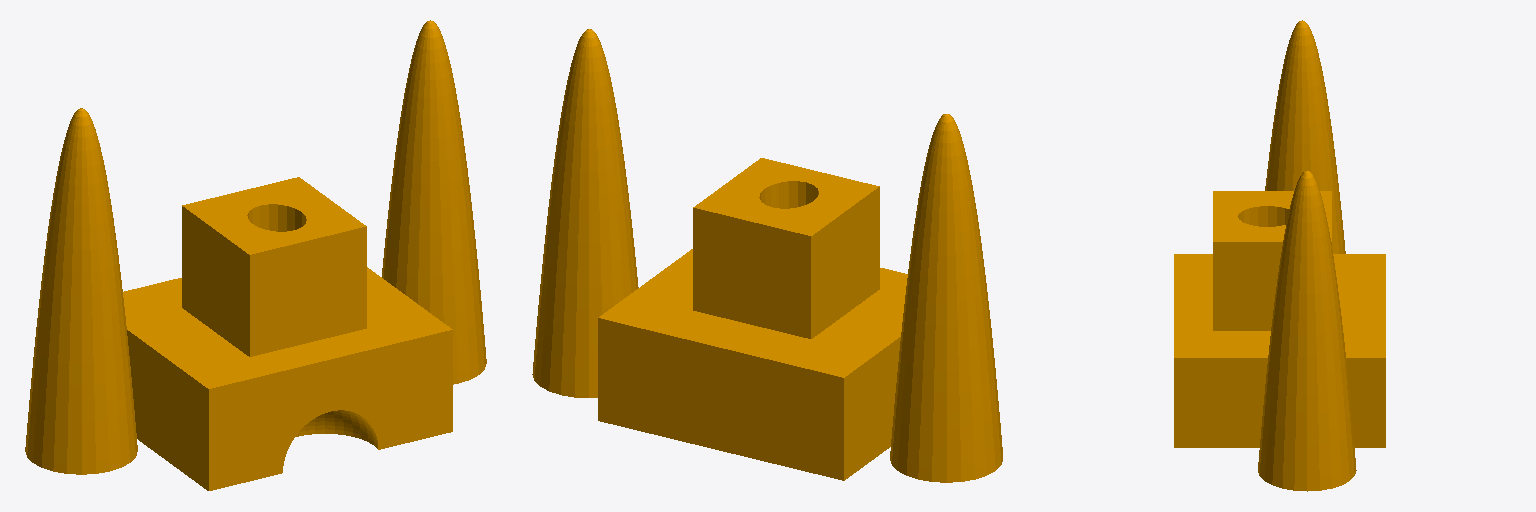
robot.urdf — my_tinkercad:
<?xml version="1.0"?>
<robot name="my_tinkercad" xmlns:xacro="https://ros.org/wiki/xacro">

<link name="my_link">

  <visual>
    <origin xyz="0 0 0" rpy="0 0 0" />
    <geometry>
    <mesh filename="package://project/urdf/meshes/tinkercad_exemple.stl" />
    </geometry>
  </visual>
</link>

</robot>

--- Render facts (derived) ---
3 views of the same robot in one strip: view 1: azimuth 30°, elevation 25°; view 2: azimuth 150°, elevation 25°; view 3: azimuth 270°, elevation 25° (orthographic).
Model my_tinkercad with 1 links and 0 joints (none), rooted at my_link, posed every joint at zero.
Links seen in each view (by area): view 1: my_link; view 2: my_link; view 3: my_link.
Link boxes in pixels (bbox=[...]): my_link: bbox=[25, 20, 486, 490]; my_link: bbox=[532, 29, 1002, 482]; my_link: bbox=[1174, 20, 1385, 491].
Bounding box of the posed robot: 92 × 43 × 67 m (x, y, z).
1 mesh visuals loaded from 1 distinct referenced files (1 binary STL).